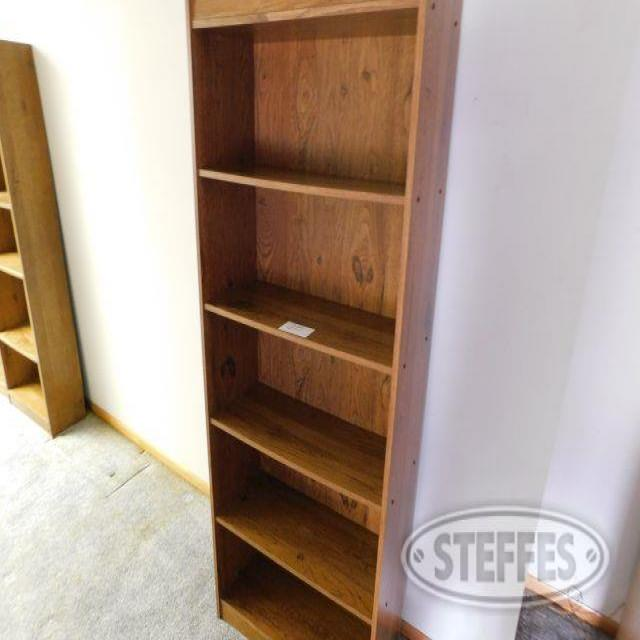Shelf: (180, 0, 462, 640)
